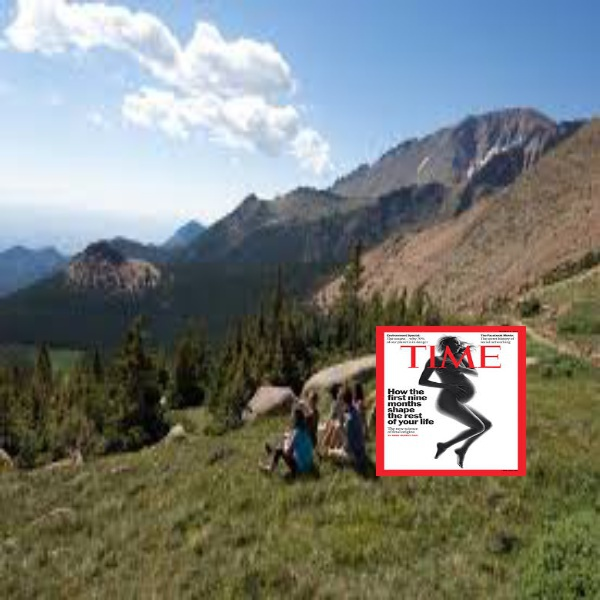time_cover: (357, 321, 528, 475)
